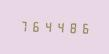eight: (66, 20, 77, 34)
four: (54, 19, 65, 34), (42, 19, 53, 33)
seven: (17, 18, 28, 33)
six: (78, 20, 89, 35), (29, 19, 40, 33)
